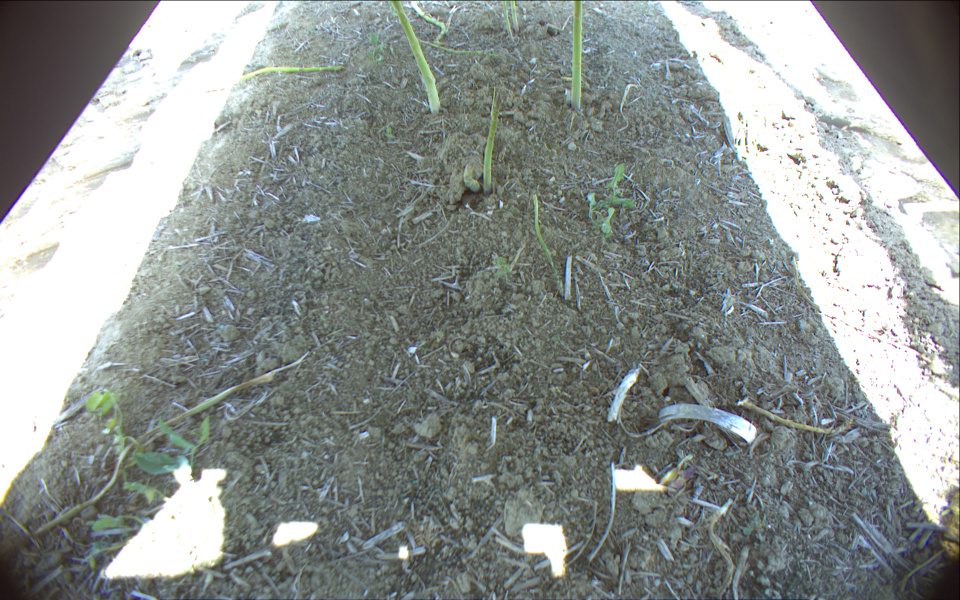aspa: (34, 356, 302, 538), (392, 1, 439, 114), (202, 64, 344, 95), (737, 398, 855, 434), (533, 193, 563, 296), (483, 88, 502, 195), (406, 1, 447, 43), (570, 1, 585, 111), (413, 37, 499, 55), (501, 1, 515, 40), (462, 165, 479, 195), (510, 1, 519, 32)
